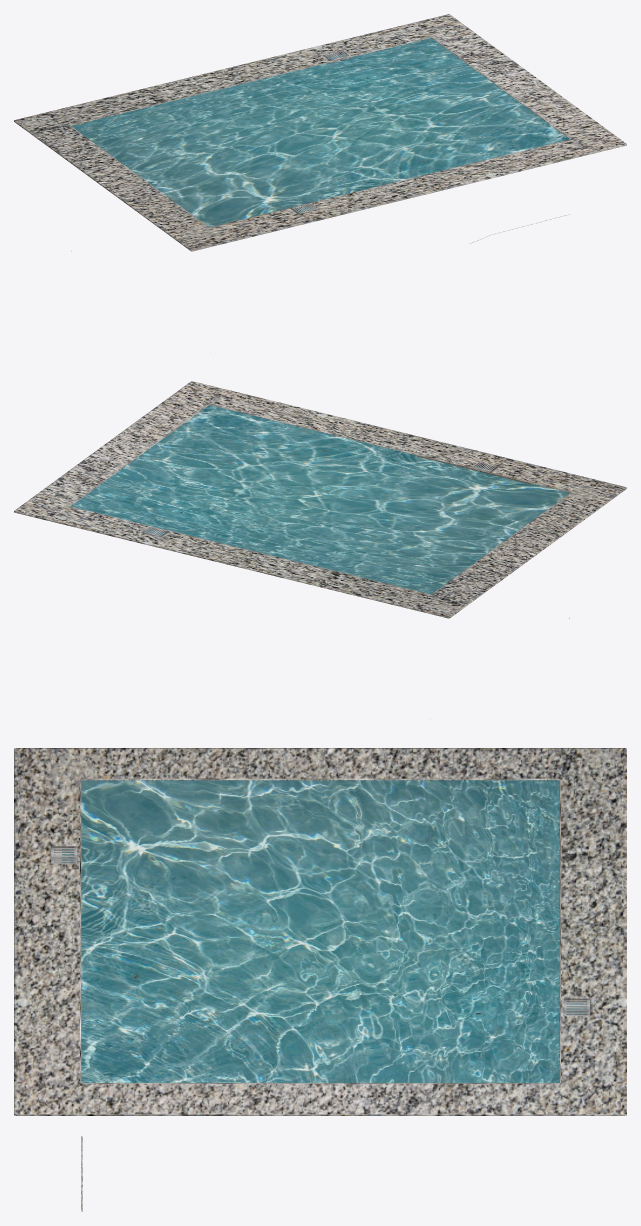
Rendered from poolp.obj.
3 renders of one model, top to bottom at view 1: azimuth 30°, elevation 25°; view 2: azimuth 150°, elevation 25°; view 3: azimuth 270°, elevation 25°, orthographic. The views are drawn at different scales.
Visible parts, largest first — view 1: Box001, Pool_Main; view 2: Box001, Pool_Main; view 3: Box001, Pool_Main.
Boxes of the visible parts, <box> form: Box001: <box>71,38,569,227</box>; Pool_Main: <box>14,14,626,251</box>; Box001: <box>71,405,569,594</box>; Pool_Main: <box>14,381,626,618</box>; Box001: <box>62,780,585,1082</box>; Pool_Main: <box>14,748,626,1211</box>.
Size of the model in its own units: 7.25 by 2 by 5.13.
Materials: 3 (3 with a texture image).
